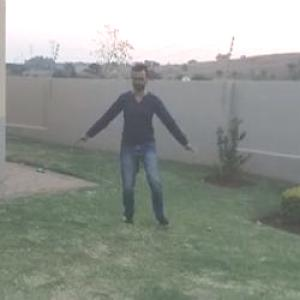land: (82, 53, 204, 235)
